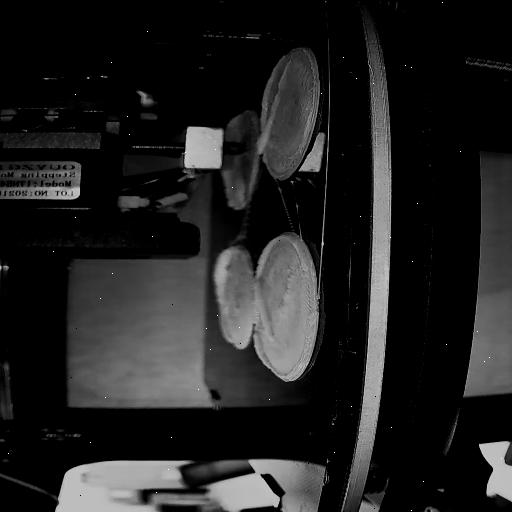over_extrusion: (254, 61, 294, 154), (254, 233, 306, 280), (212, 245, 244, 303), (254, 282, 274, 372), (220, 158, 236, 206), (216, 311, 235, 345), (224, 113, 238, 139)
